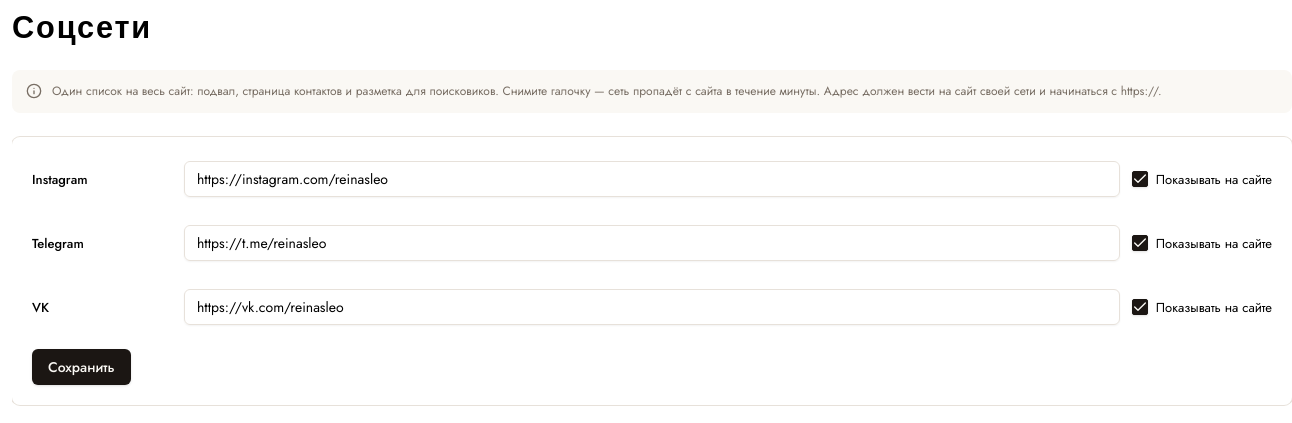
Scenario: admin socials — one list for the whole site › shows the server reason when an address is refused
Click the button "Сохранить". click: (81, 367)
box: [32, 349, 131, 385]
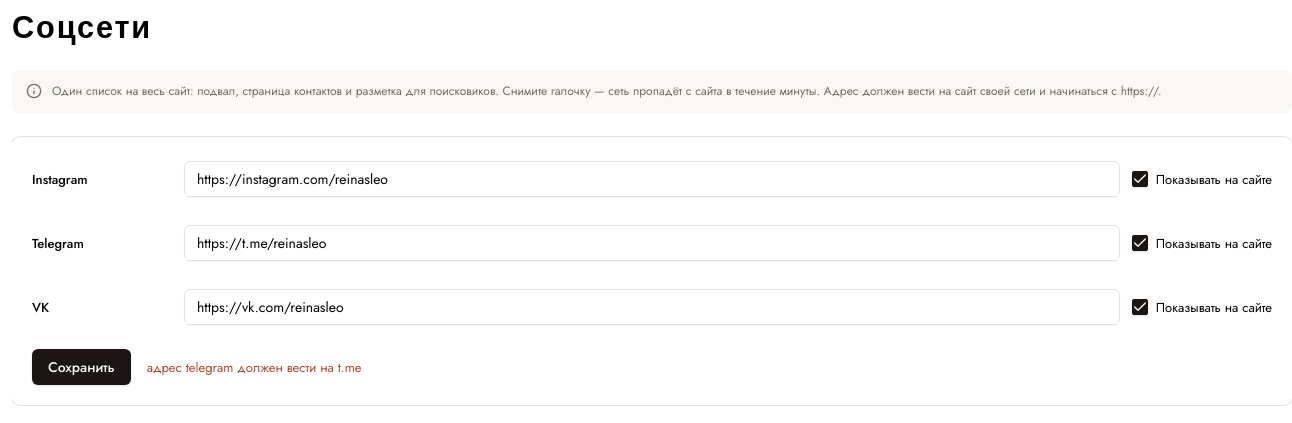
Now the message reads "адрес telegram должен вести на t.me", box [147, 358, 362, 376]
